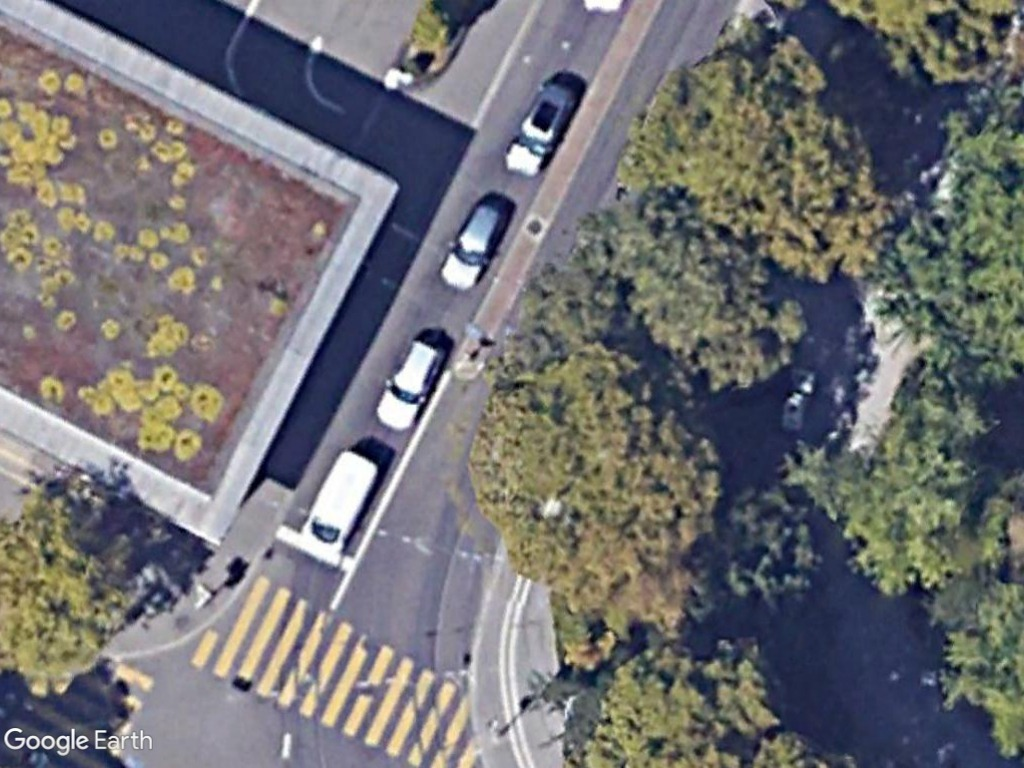car: (498, 77, 577, 179), (437, 197, 510, 295), (373, 334, 443, 435)
van: (298, 448, 378, 564)
